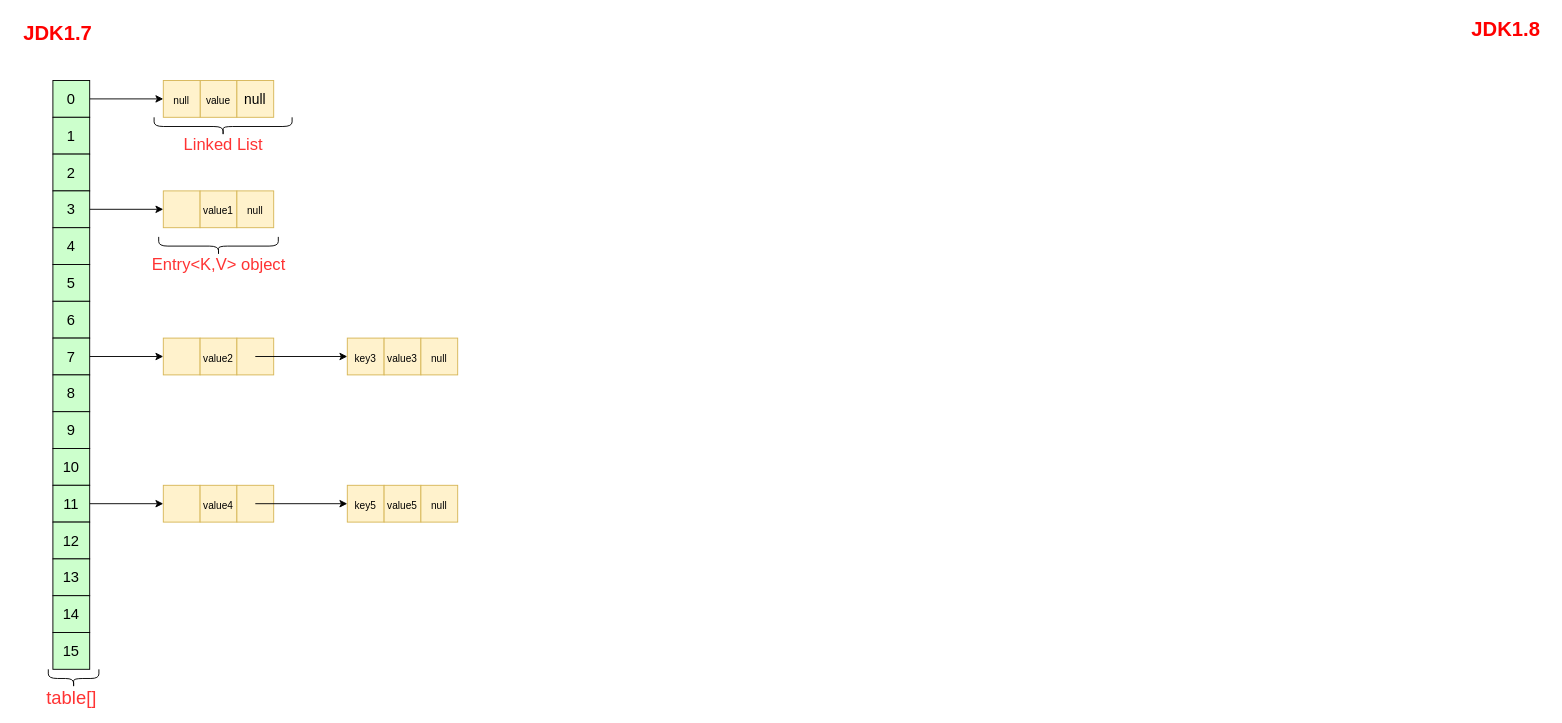
Some shapes in this 1562 by 723 pixel diagram are drawn without their labels. Here are the shapes that lost their labels. From the top down, the box of each, then its label:
(162, 190, 200, 228): key1
(162, 337, 200, 375): key2
(162, 484, 200, 522): key4
